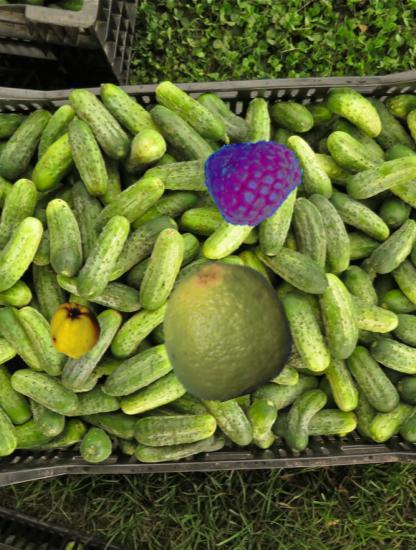Limes: (156, 259, 296, 399)
Quince: (46, 302, 103, 359)
Raspberry: (205, 134, 304, 233)
